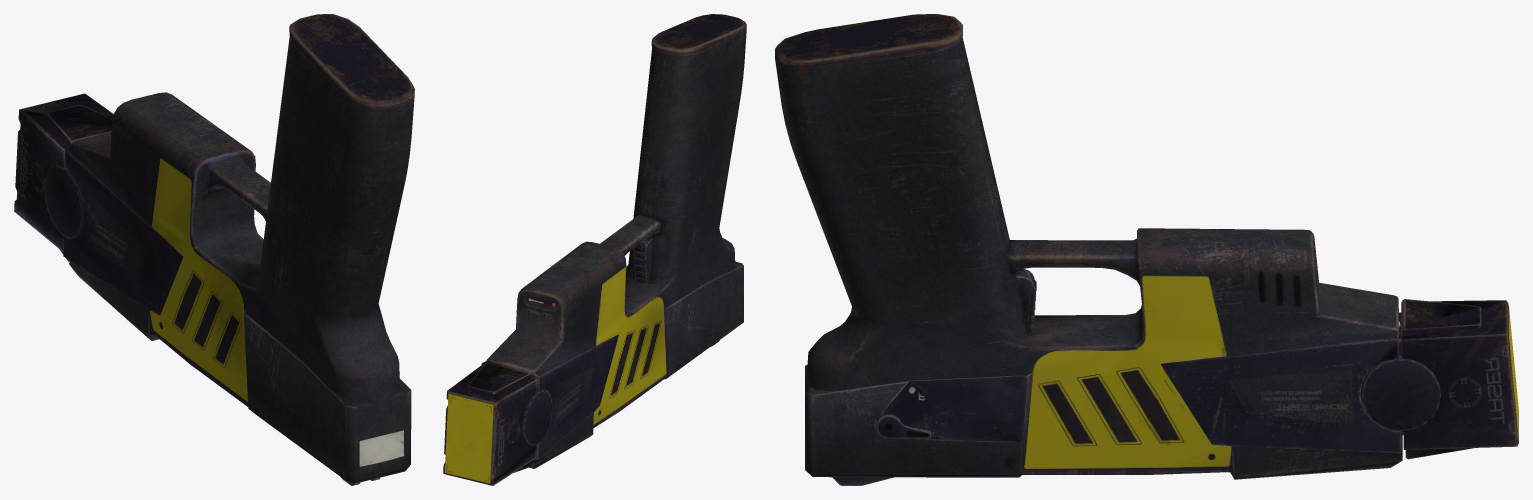
File: item_taser.obj
The picture shows the model from 3 angles, left to right: view 1: azimuth 30°, elevation 25°; view 2: azimuth 150°, elevation 25°; view 3: azimuth 270°, elevation 25°; orthographic projection. The views are drawn at different scales.
Bounding box in the file's own units: 14.08 × 74.18 × 110.
Materials: 1 (1 with a texture image).
